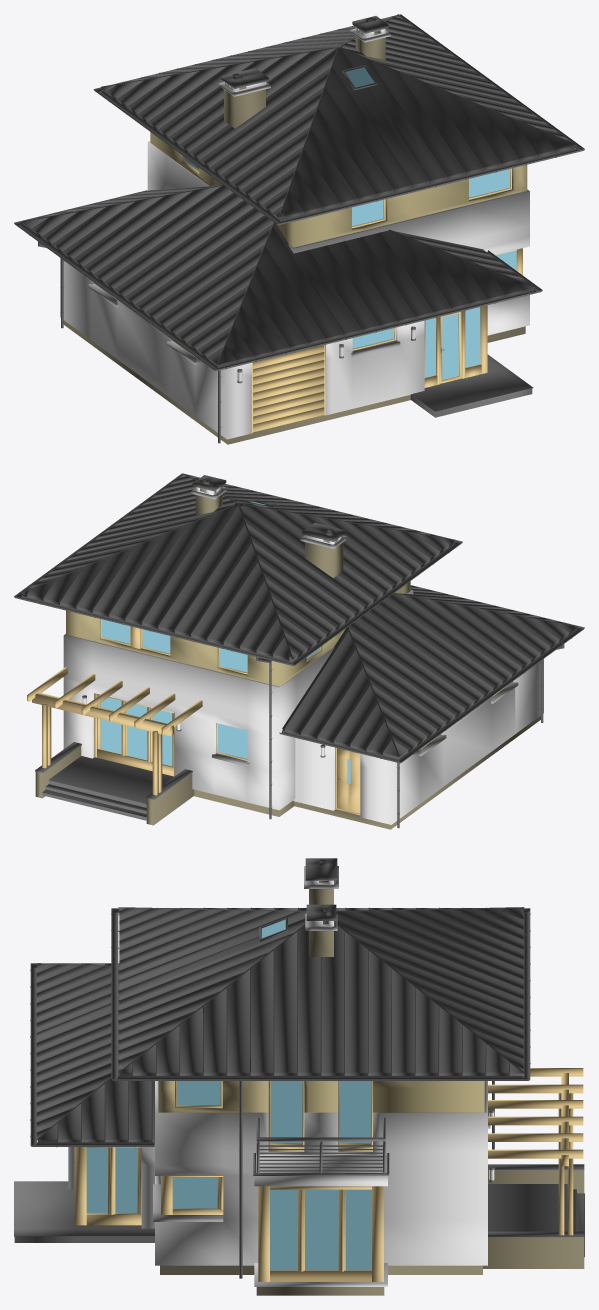
File: hut.gltf
3 renders of one model, top to bottom at view 1: azimuth 30°, elevation 25°; view 2: azimuth 150°, elevation 25°; view 3: azimuth 270°, elevation 25°, orthographic. The views are drawn at different scales.
Visible parts, largest first — view 1: Node3, Node16, Node10, Node9, Node7, Node11, Node15, Node4, Node2, Node8, Node6, Node1; view 2: Node3, Node16, Node10, Node9, Node4, Node13, Node8, Node11, Node14, Node15, Node2, Node6; view 3: Node3, Node16, Node9, Node4, Node10, Node13, Node14, Node15, Node12, Node11, Node2, Node6.
Boxes of the visible parts, bbox=[...] form: Node3: bbox=[22, 15, 576, 366]; Node16: bbox=[60, 73, 529, 439]; Node10: bbox=[14, 14, 584, 443]; Node9: bbox=[94, 156, 522, 387]; Node7: bbox=[252, 344, 325, 432]; Node11: bbox=[219, 16, 390, 128]; Node15: bbox=[63, 320, 532, 444]; Node4: bbox=[411, 354, 533, 411]; Node2: bbox=[22, 14, 576, 364]; Node8: bbox=[440, 311, 461, 383]; Node6: bbox=[88, 283, 400, 364]; Node1: bbox=[342, 65, 377, 90]; Node3: bbox=[21, 474, 577, 758]; Node16: bbox=[63, 581, 543, 824]; Node10: bbox=[14, 473, 584, 828]; Node9: bbox=[100, 619, 512, 815]; Node4: bbox=[42, 756, 173, 820]; Node13: bbox=[27, 667, 202, 795]; Node8: bbox=[94, 693, 174, 776]; Node11: bbox=[190, 475, 347, 577]; Node14: bbox=[35, 742, 194, 825]; Node15: bbox=[194, 716, 540, 829]; Node2: bbox=[21, 473, 577, 756]; Node6: bbox=[212, 682, 518, 766]; Node3: bbox=[36, 907, 523, 1144]; Node16: bbox=[68, 1081, 487, 1286]; Node9: bbox=[74, 1081, 383, 1281]; Node4: bbox=[14, 1181, 584, 1257]; Node10: bbox=[30, 908, 530, 1278]; Node13: bbox=[488, 1068, 583, 1235]; Node14: bbox=[483, 1164, 584, 1268]; Node15: bbox=[14, 1236, 482, 1295]; Node12: bbox=[253, 1117, 389, 1175]; Node11: bbox=[304, 858, 338, 956]; Node2: bbox=[36, 907, 524, 1139]; Node6: bbox=[153, 1108, 490, 1221].
Bounding box in the file's own units: 13.64 × 9 × 14.54.
